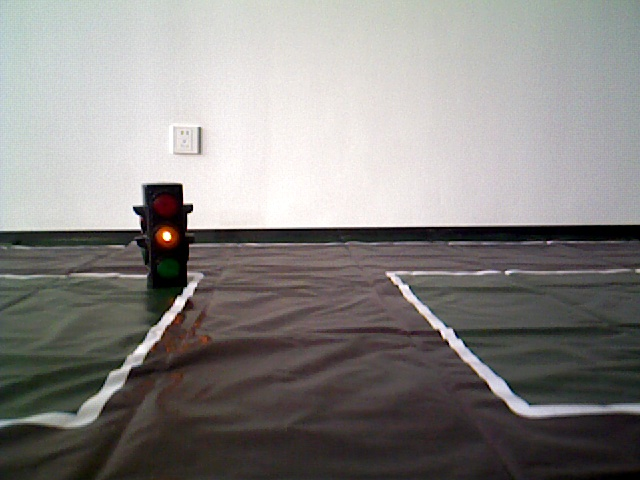yellow: (139, 181, 191, 287)
